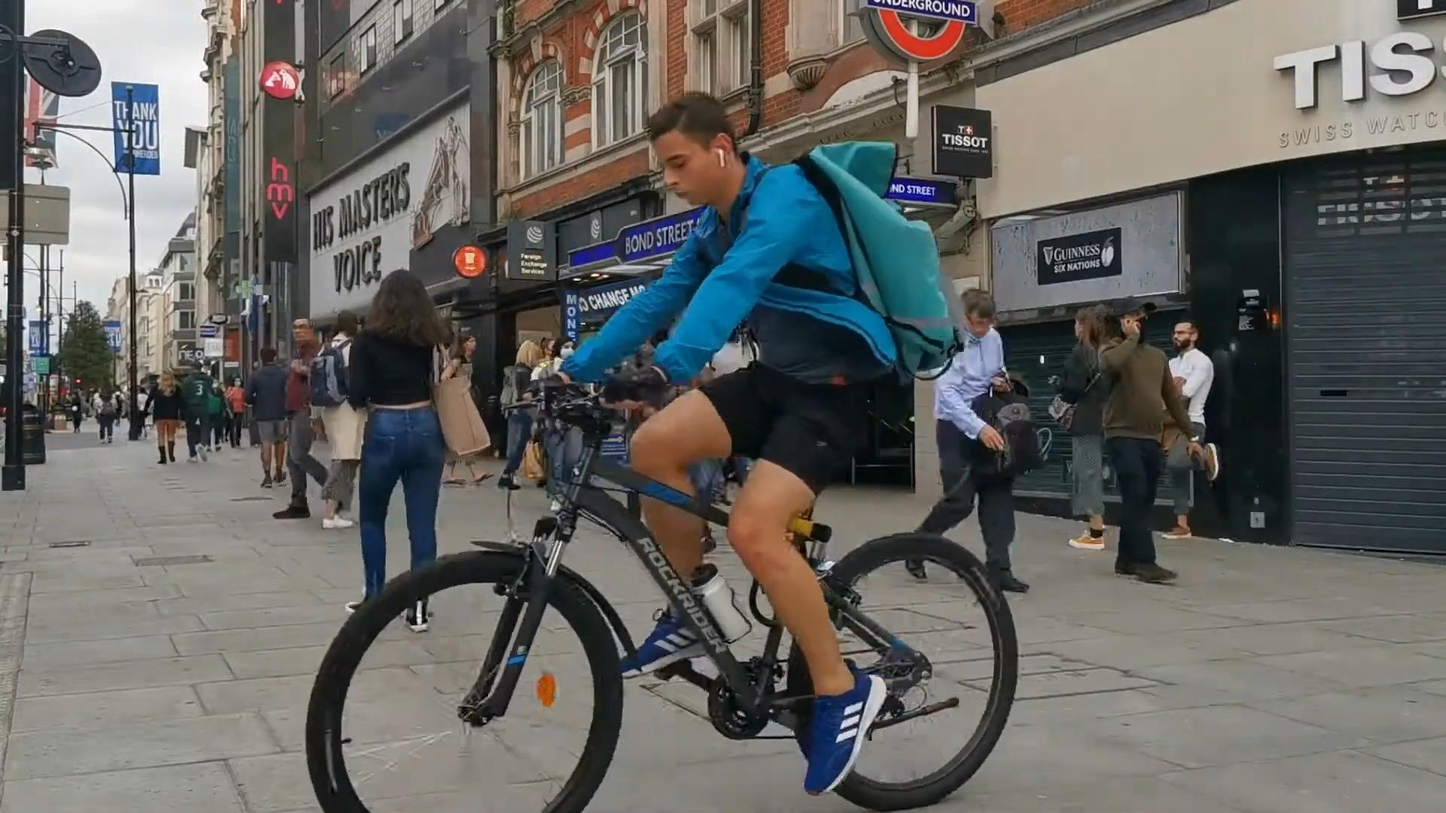no-helmet: (648, 91, 737, 205), (366, 269, 437, 342), (1113, 295, 1157, 342), (960, 287, 996, 339), (1074, 303, 1109, 348), (1170, 318, 1200, 354), (515, 340, 543, 369), (331, 310, 358, 337), (551, 336, 574, 360), (291, 318, 314, 342), (457, 332, 477, 353), (157, 367, 175, 389), (260, 347, 278, 365), (541, 336, 555, 359), (189, 360, 203, 373), (232, 376, 243, 388)
